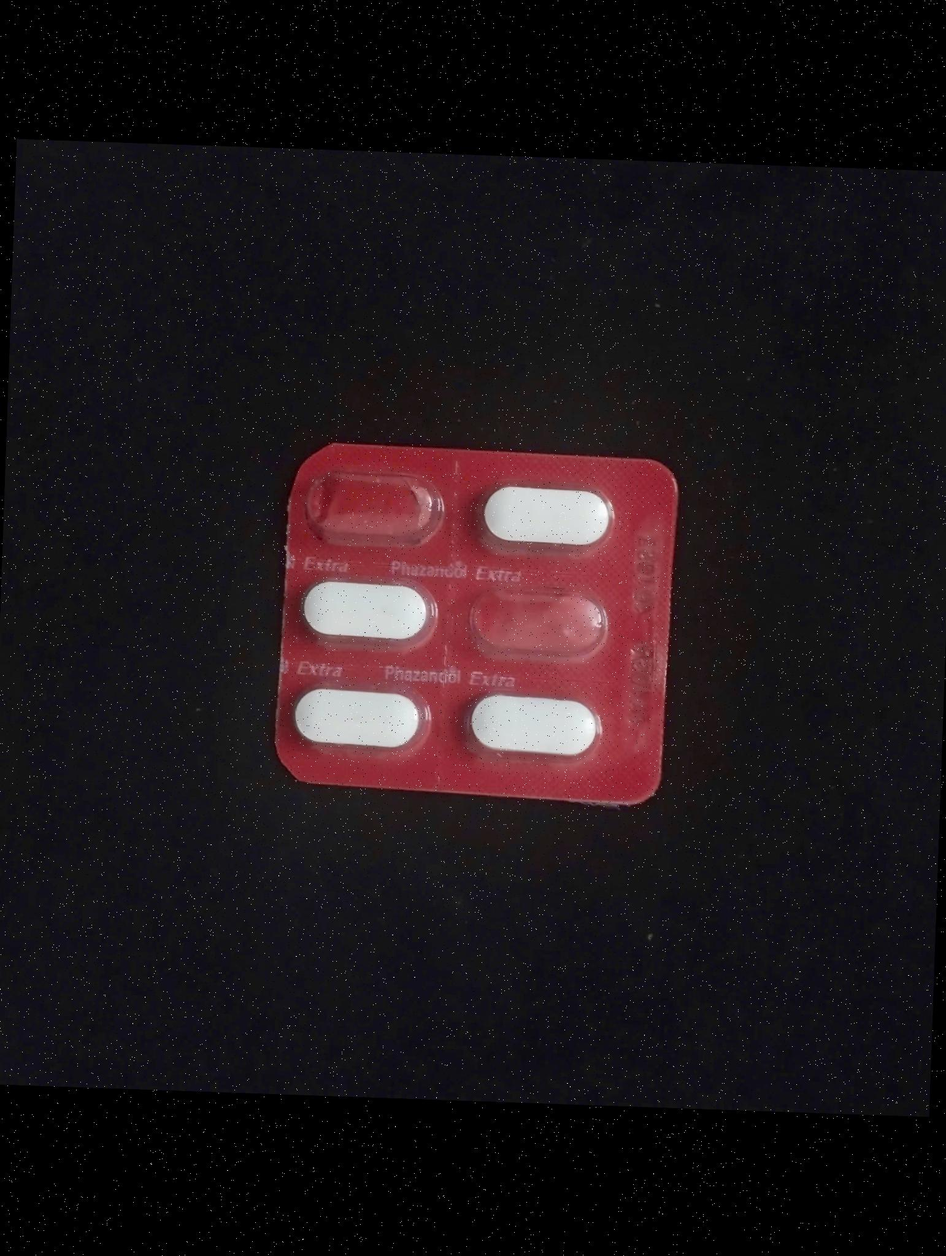Empty: (466, 582, 613, 668), (298, 463, 448, 545)
Full: (466, 479, 620, 559), (463, 683, 598, 760), (296, 578, 437, 648), (290, 689, 426, 756)
